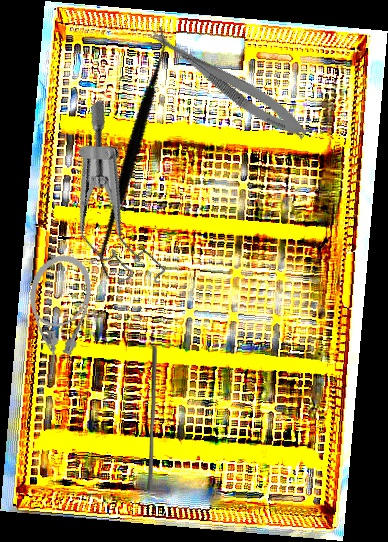Cannula: (14, 248, 99, 375)
Micro Scissor: (139, 22, 313, 145)
Pusher: (147, 346, 157, 490)
Spatula Surgical: (40, 25, 230, 280)
Speculum: (18, 97, 217, 306)
